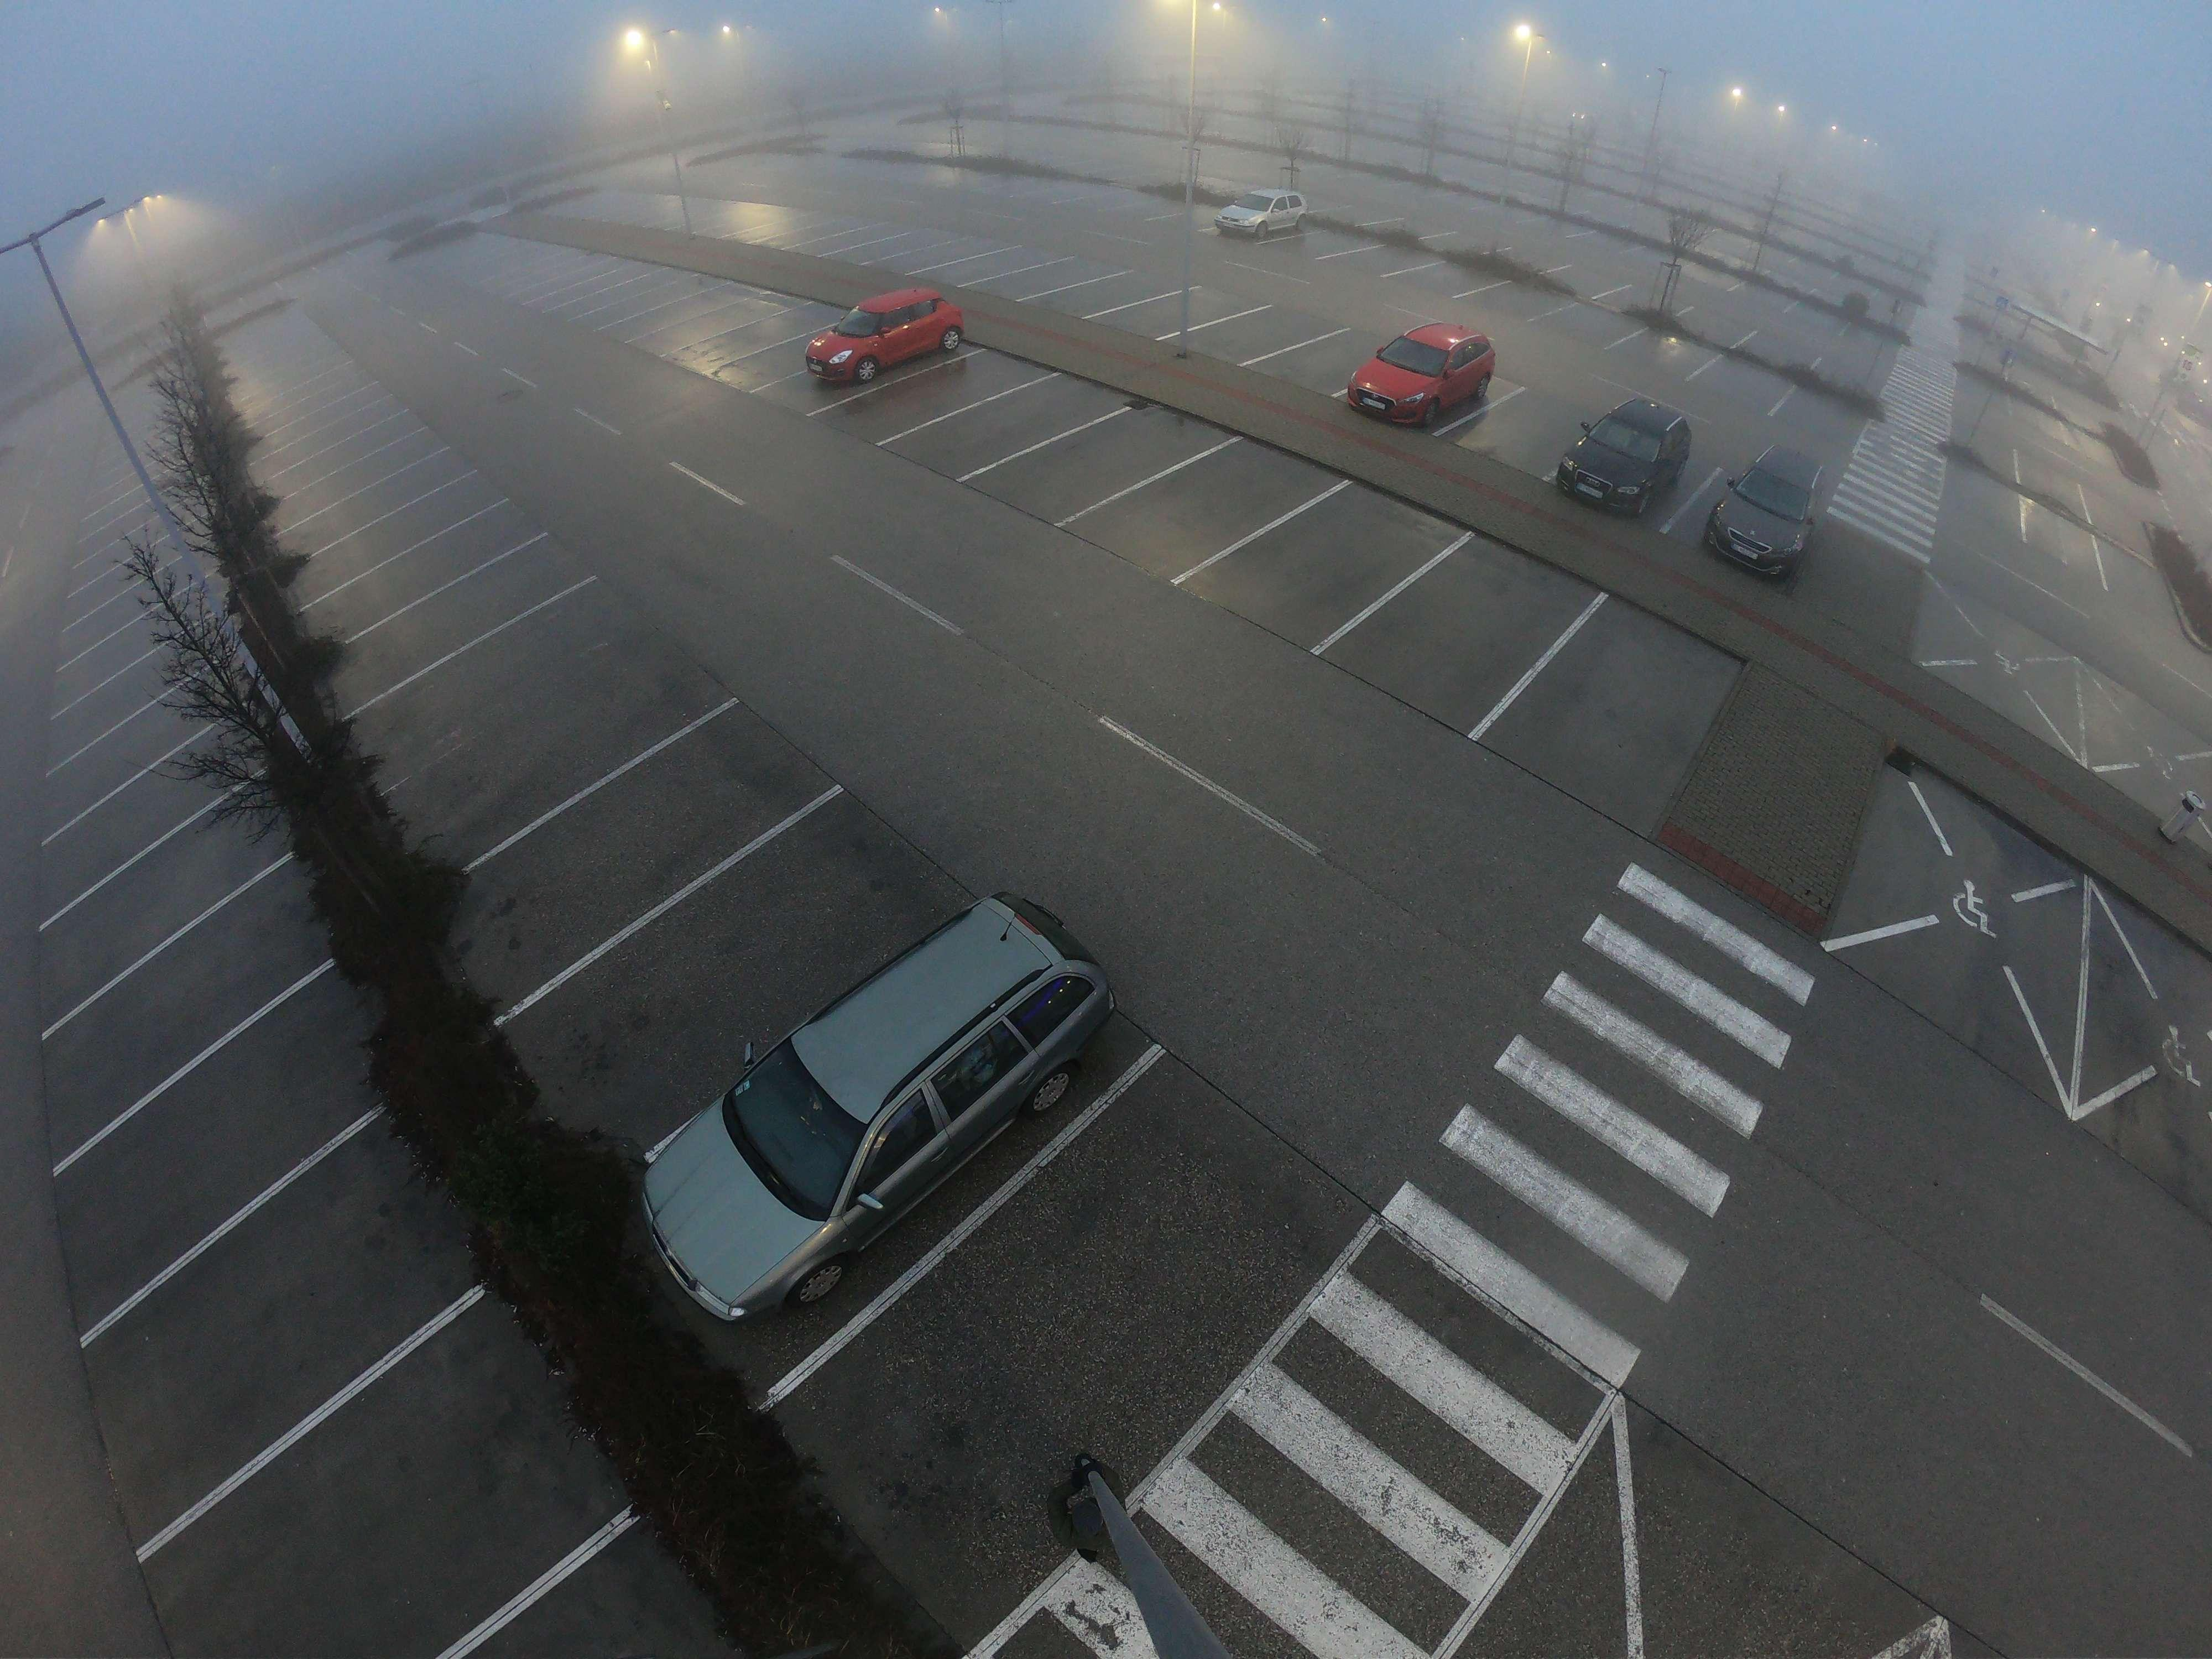empty: (1099, 1178, 1655, 1656), (648, 861, 1132, 1326), (1334, 317, 1501, 432), (1550, 404, 1691, 521), (805, 289, 974, 385), (1710, 460, 1834, 582), (1219, 190, 1312, 242)
occupied: (984, 1222, 1247, 1392), (305, 1441, 526, 1595), (204, 1239, 378, 1361), (672, 908, 841, 1021), (477, 664, 629, 767), (1550, 664, 1693, 758), (169, 1072, 307, 1159), (1393, 587, 1524, 669), (592, 791, 721, 868), (1278, 526, 1386, 598), (153, 945, 254, 1019), (1163, 477, 1266, 540), (132, 857, 216, 920), (1545, 293, 1623, 352), (1057, 436, 1146, 486), (1705, 368, 1789, 420), (1494, 406, 1571, 460), (747, 291, 810, 352), (1625, 326, 1700, 376), (115, 786, 185, 838), (1787, 401, 1855, 453), (437, 582, 505, 633), (80, 669, 152, 713), (1285, 347, 1362, 387), (98, 730, 158, 777), (979, 406, 1054, 443), (1216, 321, 1287, 357), (402, 554, 474, 591), (892, 378, 963, 413), (1125, 307, 1193, 342), (1064, 288, 1129, 321), (383, 512, 434, 549), (1477, 279, 1526, 312), (338, 484, 378, 519), (1003, 258, 1042, 291)
